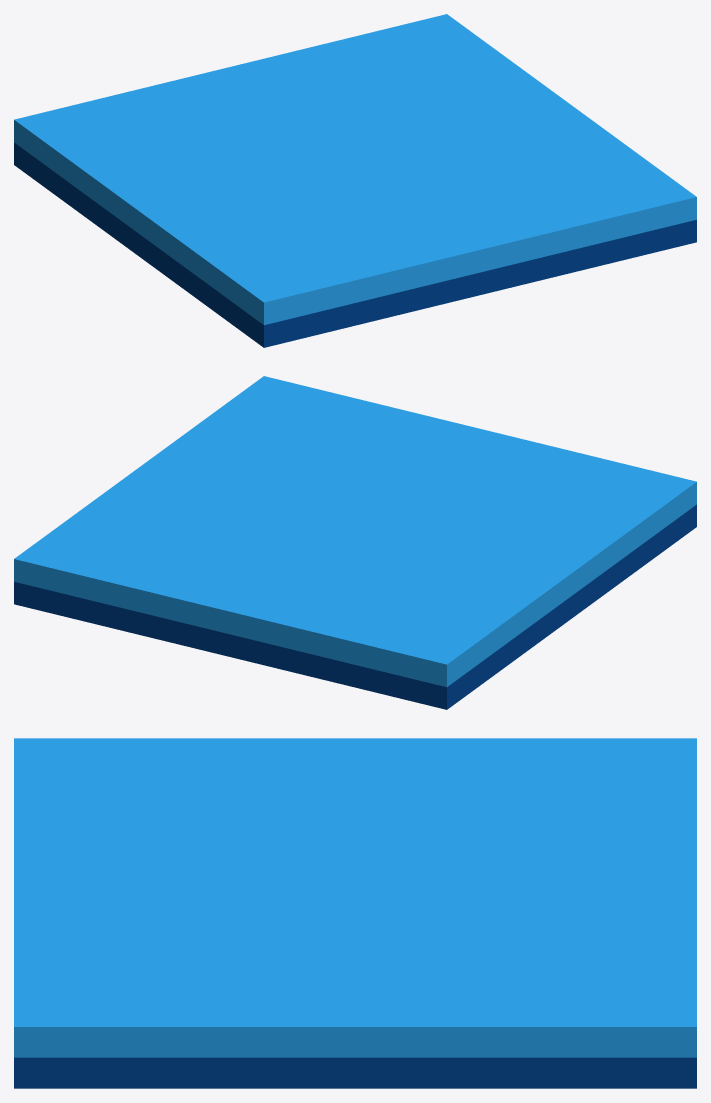
File: TileWater_02.fbx
3 renders of one model, top to bottom at view 1: azimuth 30°, elevation 25°; view 2: azimuth 150°, elevation 25°; view 3: azimuth 270°, elevation 25°, orthographic. The views are drawn at different scales.
Parts seen in each view (by area): view 1: TileWater_02; view 2: TileWater_02; view 3: TileWater_02.
Part boxes in pixels (x1=…): TileWater_02: x1=14, y1=14, x2=696, y2=347; TileWater_02: x1=14, y1=376, x2=696, y2=709; TileWater_02: x1=14, y1=738, x2=696, y2=1088.
Size of the model in its own units: 500 by 50 by 500.
